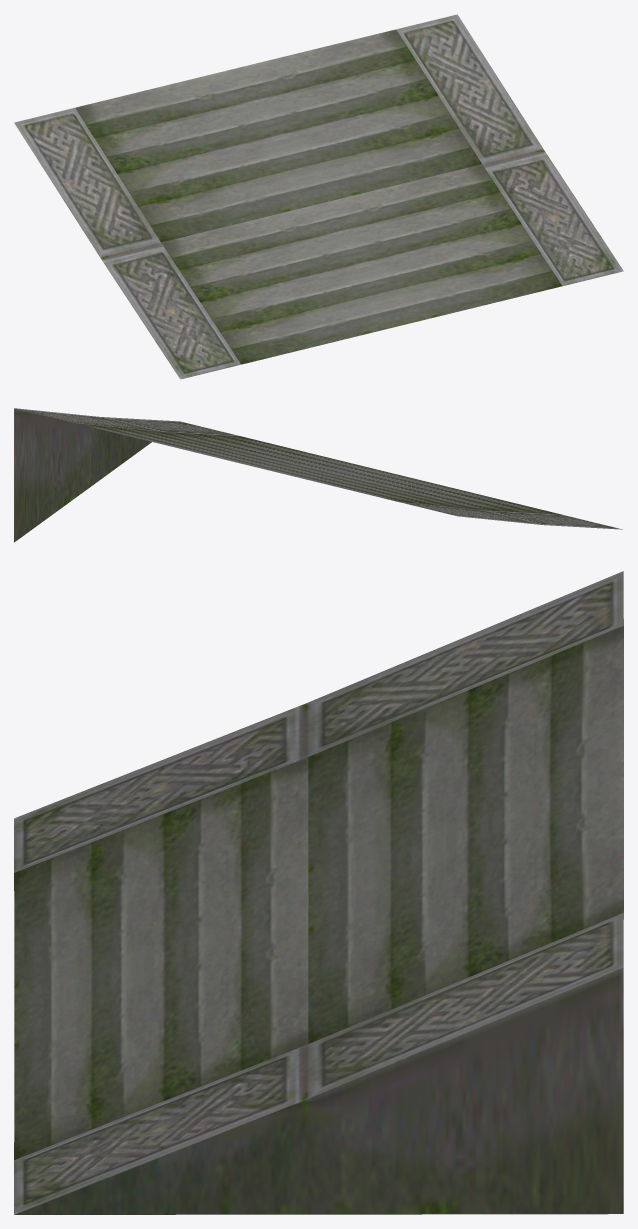
The model's file is yw_yanziwu_louti01.FBX.
The picture shows the model from 3 angles, top to bottom: view 1: azimuth 30°, elevation 25°; view 2: azimuth 150°, elevation 25°; view 3: azimuth 270°, elevation 25°; orthographic projection. The views are drawn at different scales.
Parts seen in each view (by area): view 1: yw_yanziwu_louti01; view 2: yw_yanziwu_louti01; view 3: yw_yanziwu_louti01.
Part boxes in pixels (x1,y1,x2,y2): yw_yanziwu_louti01: (14,14,623,379); yw_yanziwu_louti01: (14,408,622,542); yw_yanziwu_louti01: (14,571,623,1214).
Bounding box in the file's own units: 288 × 83.87 × 187.
